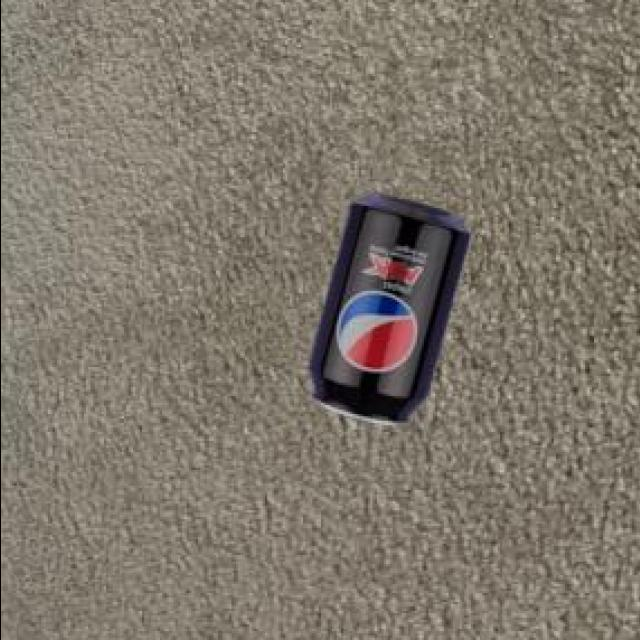logam: (305, 198, 467, 429)
